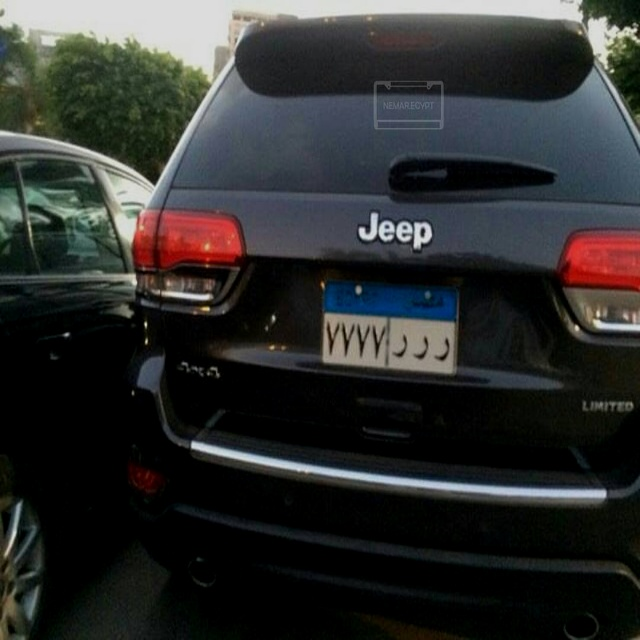License Plate: (318, 276, 461, 382)
